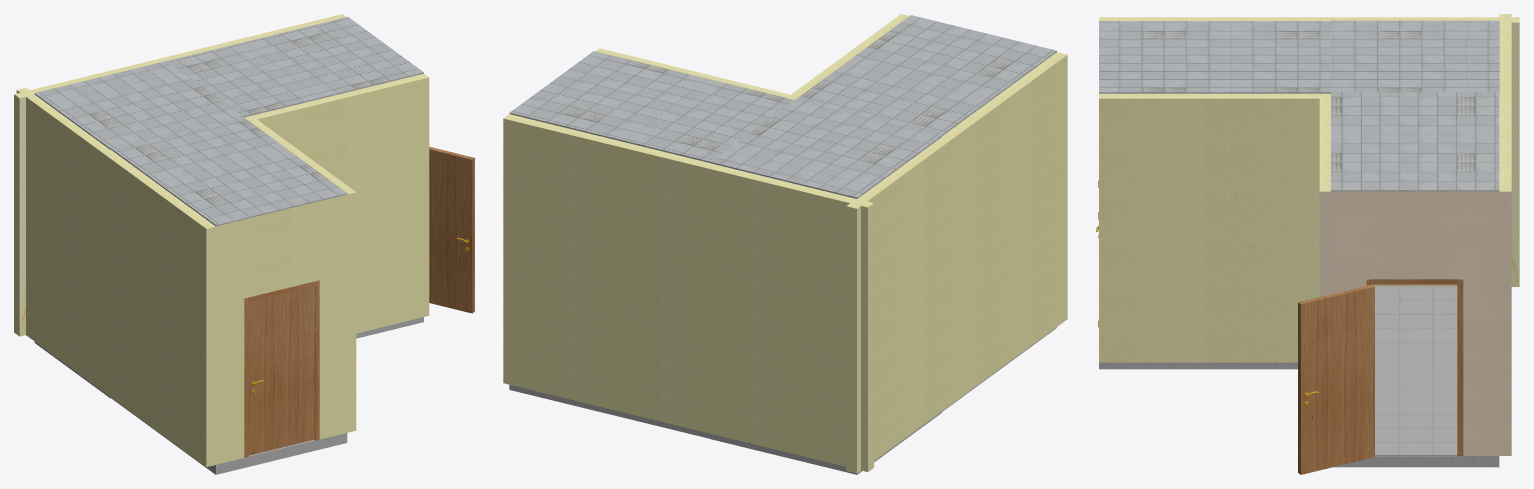
The model's file is mini_corridor.fbx.
3 views of the same model, side by side, from view 1: azimuth 30°, elevation 25°; view 2: azimuth 150°, elevation 25°; view 3: azimuth 270°, elevation 25° (orthographic). The views are drawn at different scales.
Parts seen in each view (by area): view 1: Cube.210, Cube.187, Cube.240, Cube.241, Cube.244, Sphere.009, Cube.242, Sphere.010, Cube.207, Cube.208, Cylinder.096, Cube.239; view 2: Cube.207, Cube.210, Cube.244, Cube.241, Cube.242, Cube.206, Cube.209, Cube.208, Cube.187; view 3: Cube.208, Cube.243, Cube.241, Cube.244, Sphere.010, Cube.242, Cube.206, Cube.209, Cube.207, Cube.210, Cube.187, Cylinder.100 (+1 smaller).
Boxes of the visible parts, x1,y1,x2,y2 form: Cube.210: (16,87,215,466); Cube.187: (247,73,429,333); Cube.240: (216,194,346,464); Cube.241: (111,116,347,226); Cube.244: (167,17,423,117); Sphere.009: (249,286,314,455); Cube.242: (34,61,242,149); Sphere.010: (429,146,474,313); Cube.207: (14,14,346,336); Cube.208: (244,115,356,432); Cylinder.096: (244,280,319,457); Cube.239: (111,398,347,474); Cube.207: (503,114,874,471); Cube.210: (846,52,1067,473); Cube.244: (509,51,793,162); Cube.241: (795,15,1056,135); Cube.242: (710,100,941,198); Cube.206: (509,384,710,438); Cube.209: (710,411,941,474); Cube.208: (787,14,909,99); Cube.187: (595,48,797,98); Cube.208: (1099,93,1330,362); Cube.243: (1332,191,1499,455); Cube.241: (1099,21,1330,93); Cube.244: (1331,92,1499,191); Sphere.010: (1298,284,1374,474); Cube.242: (1330,20,1499,93); Cube.206: (1333,358,1499,467); Cube.209: (1375,286,1457,357); Cube.207: (1499,14,1511,455); Cube.210: (1099,17,1519,286); Cube.187: (1319,95,1331,296); Cylinder.100: (1366,279,1463,455).
Size of the model in its own units: 282 by 184 by 254.
